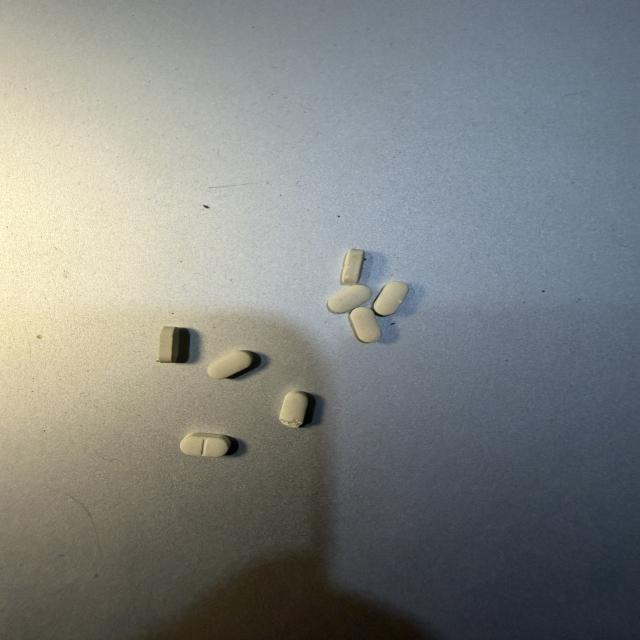pill: (208, 351, 253, 379), (327, 285, 371, 313), (180, 433, 231, 457), (373, 282, 408, 316), (349, 307, 381, 343), (280, 392, 308, 427), (341, 249, 364, 285), (159, 327, 179, 362)
